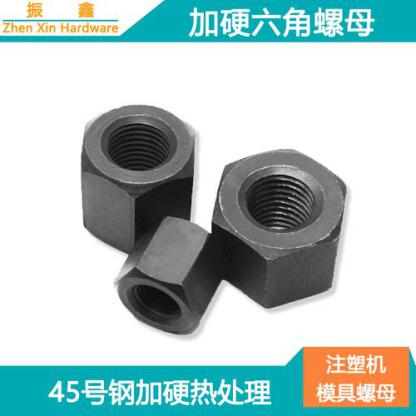FOD: (206, 145, 350, 312), (77, 102, 199, 252), (114, 216, 220, 336)
